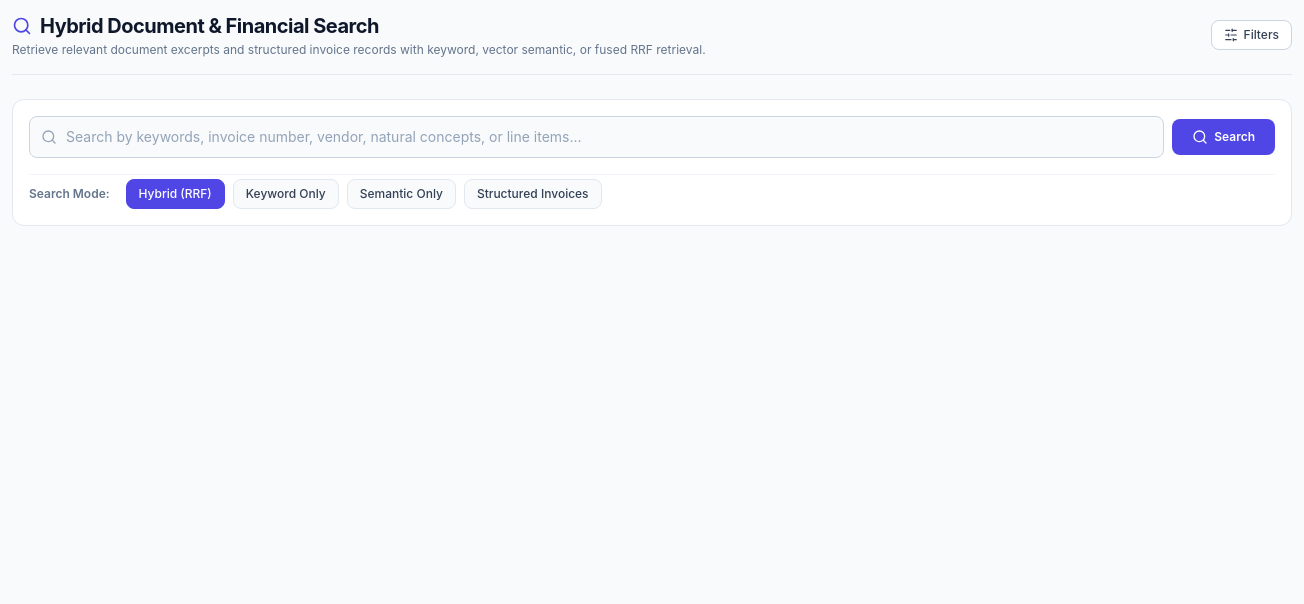
Scenario: SearchPage Component › displays fallback banner when semantic search is unavailable
This screenshot has width=1304, height=604.
Replace the text in the field with placeholder "Search by keywords, invoice number" with "Acme" at (597, 137), box [29,116,1164,158]
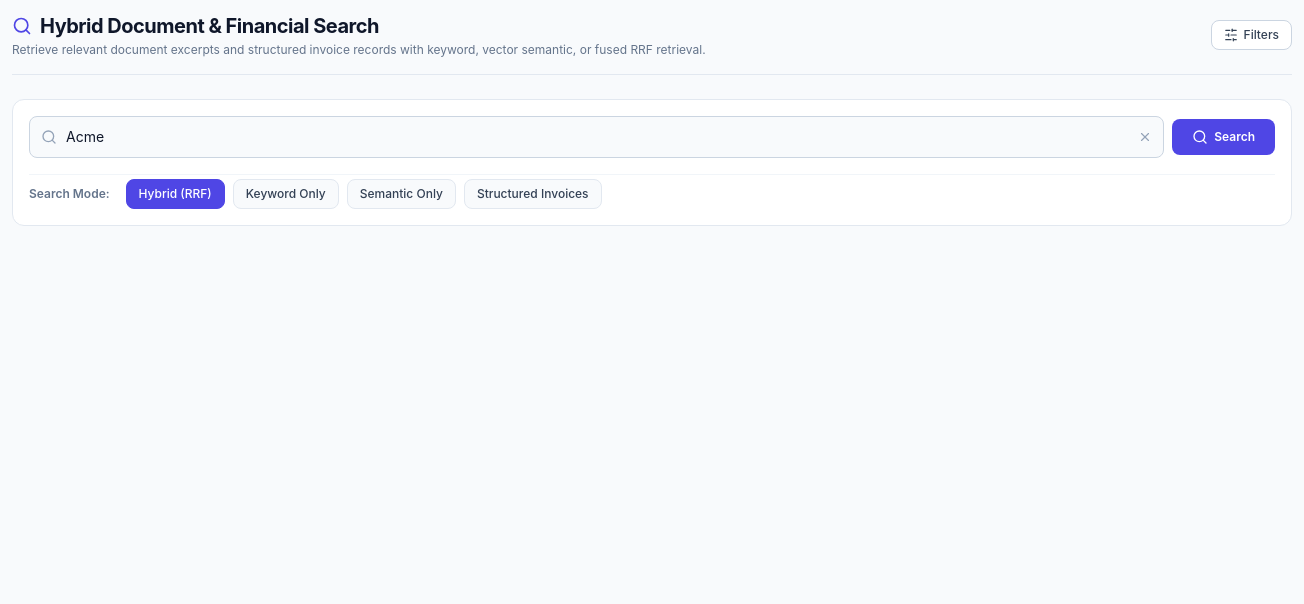
Click the button "Search" at (1224, 137), box [1172,119,1275,155]
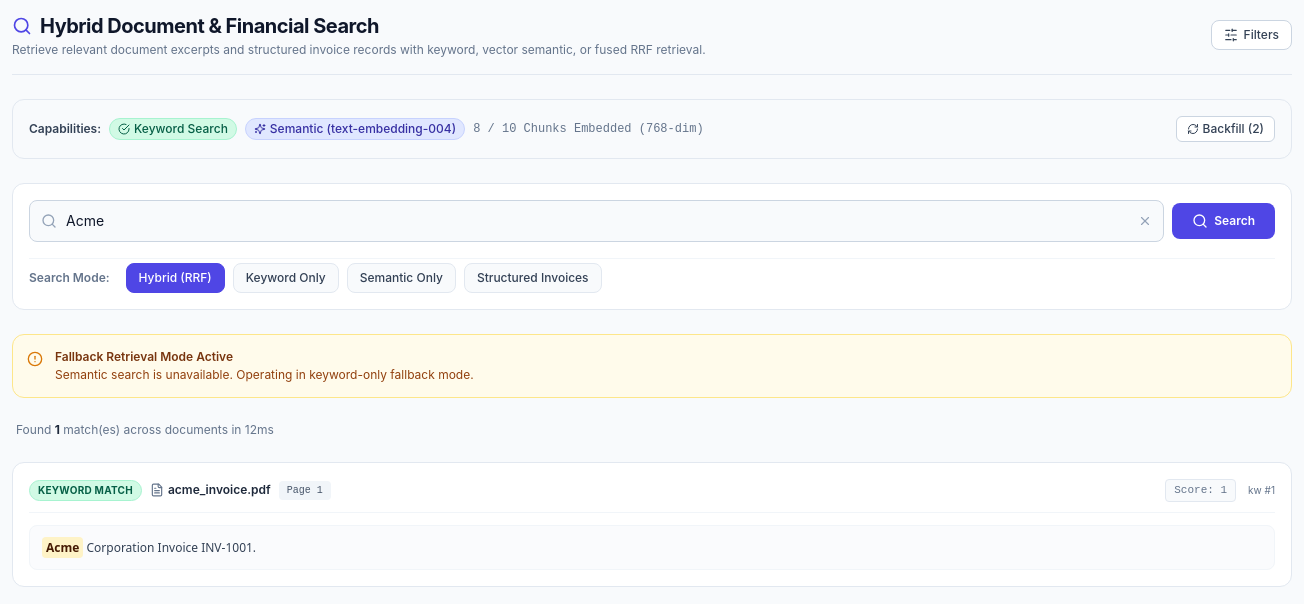
Result: the text "Fallback Retrieval Mode Active" is shown at [55,349,233,364]
Result: the text "Operating in keyword-only fallback mode" is shown at [55,367,474,382]
